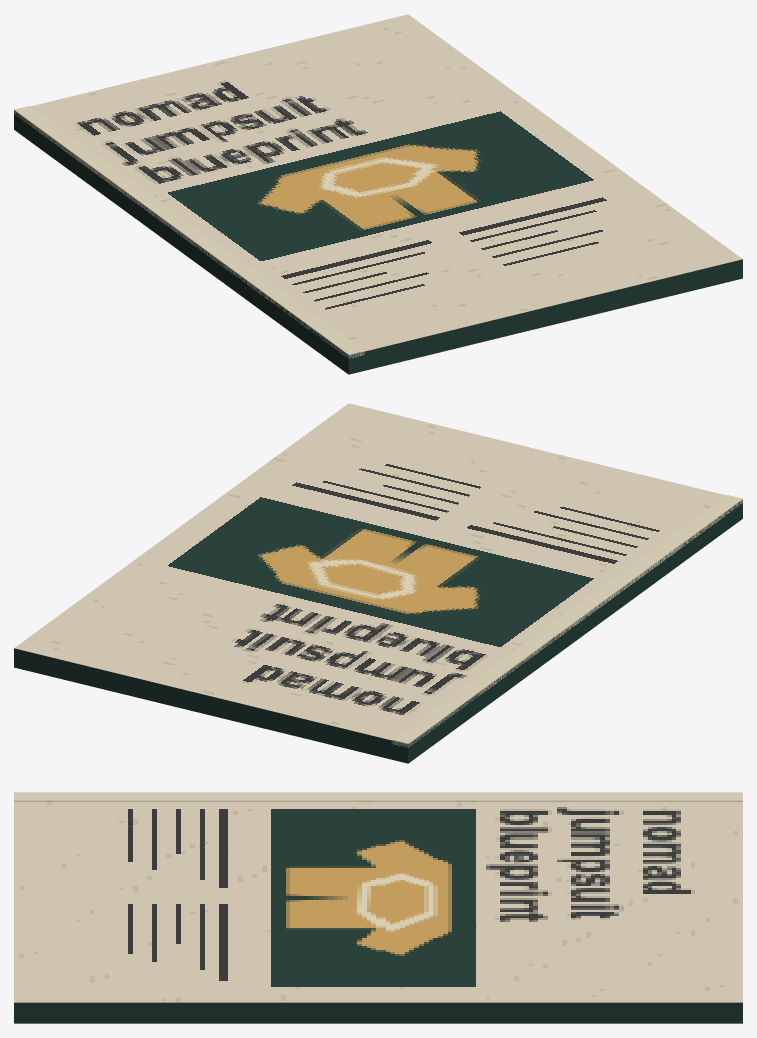
Rendered from bp_nomad_jumpsuit.glb.
3 views of the same model, one above another, from view 1: azimuth 30°, elevation 25°; view 2: azimuth 150°, elevation 25°; view 3: azimuth 270°, elevation 25° (orthographic). The views are drawn at different scales.
Parts seen in each view (by area): view 1: block_printed paper, block_folded edge; view 2: block_printed paper, block_folded edge; view 3: block_printed paper, block_folded edge.
Part boxes in pixels (x1,y1,x2,y2): block_printed paper: [14, 14, 742, 374]; block_folded edge: [14, 106, 364, 358]; block_printed paper: [14, 403, 742, 763]; block_folded edge: [392, 495, 742, 747]; block_printed paper: [14, 801, 742, 1023]; block_folded edge: [14, 792, 742, 801].
Bounding box in the file's own units: 0.1428 × 0.00694 × 0.21.
1 material, 1 textured.
